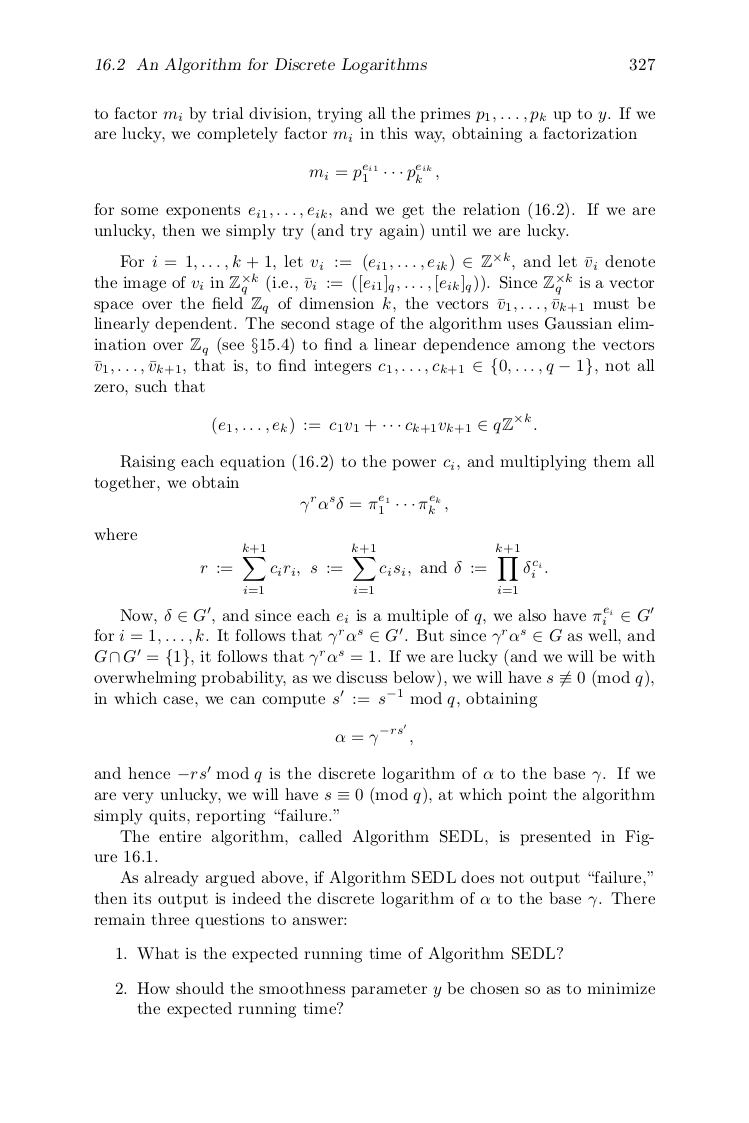formula: (200, 543, 547, 593), (212, 412, 536, 435), (300, 495, 447, 513), (309, 163, 438, 183), (335, 723, 412, 746)
